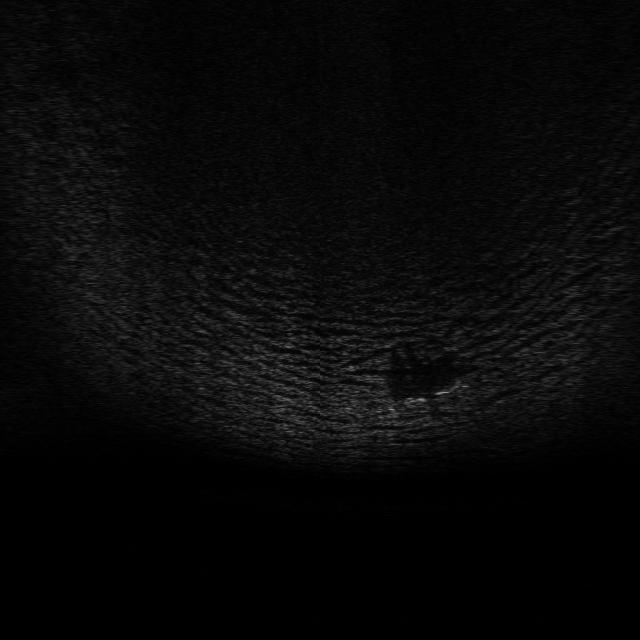plane: (384, 378, 474, 414)
